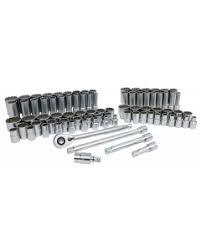wrench: (51, 122, 133, 148)
